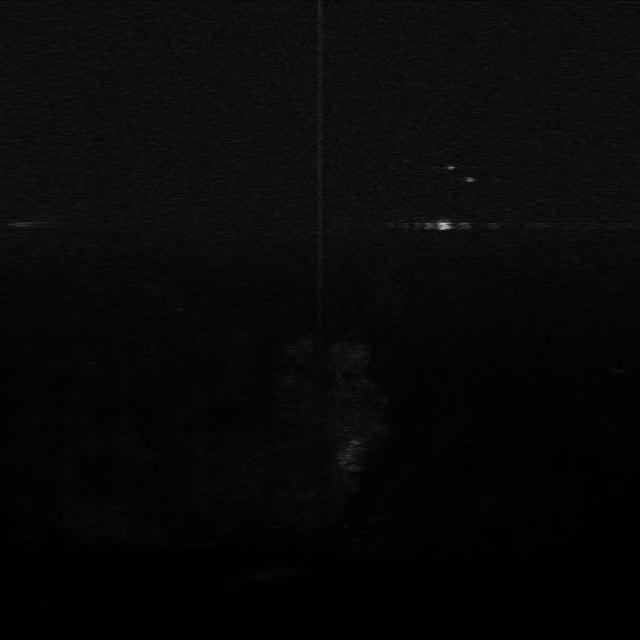rov: (433, 217, 456, 235)
